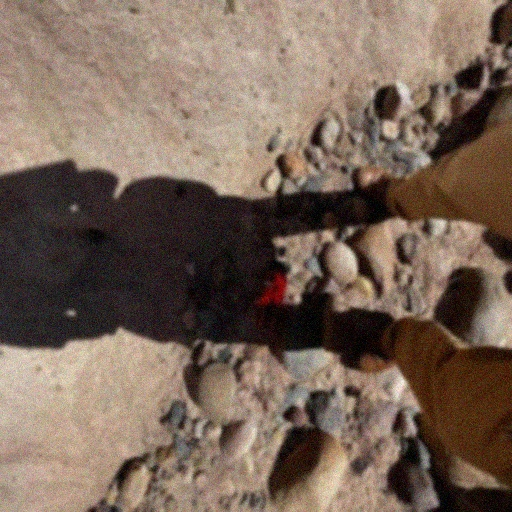bottle: (256, 260, 290, 332)
